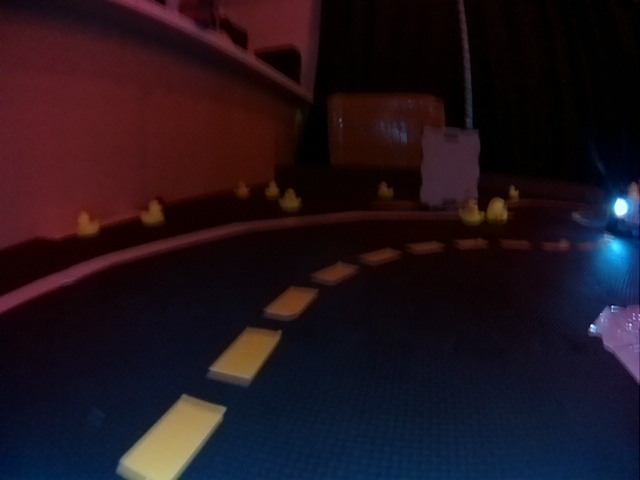Duckie: (458, 200, 483, 224), (141, 199, 161, 224), (76, 212, 97, 233), (280, 188, 301, 209), (487, 199, 507, 220), (380, 182, 393, 196)
